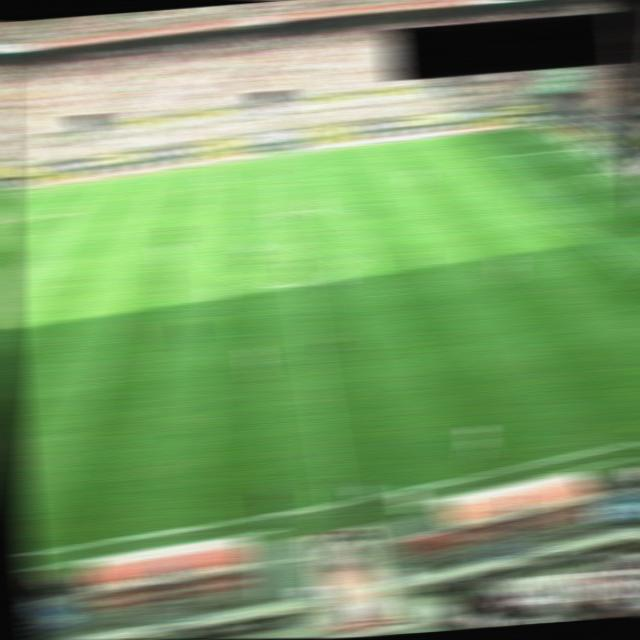bigarea_top_inner: (50, 209, 80, 220), (479, 151, 504, 164)
bigarea_top_outter: (563, 141, 589, 154)
bottom_arc_area_intersection: (570, 225, 596, 238)
corner: (523, 121, 549, 132), (0, 187, 15, 201)
halfcircle_bottom: (286, 276, 312, 289)
halfcircle_top: (274, 204, 299, 216)
midline_bottom_intersection: (324, 494, 352, 511)
midline_top_intersection: (264, 148, 290, 161)
smallarea_top_inner: (574, 168, 599, 181)
smallarea_top_outter: (602, 164, 628, 178)
top_arc_area_intersection: (23, 248, 49, 261), (515, 178, 540, 191)
